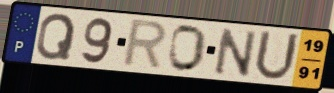9: (79, 16, 115, 65)
N: (212, 26, 259, 78)
O: (167, 23, 210, 74)
Q: (34, 12, 78, 61)
R: (119, 18, 170, 72)
U: (251, 28, 301, 83)
